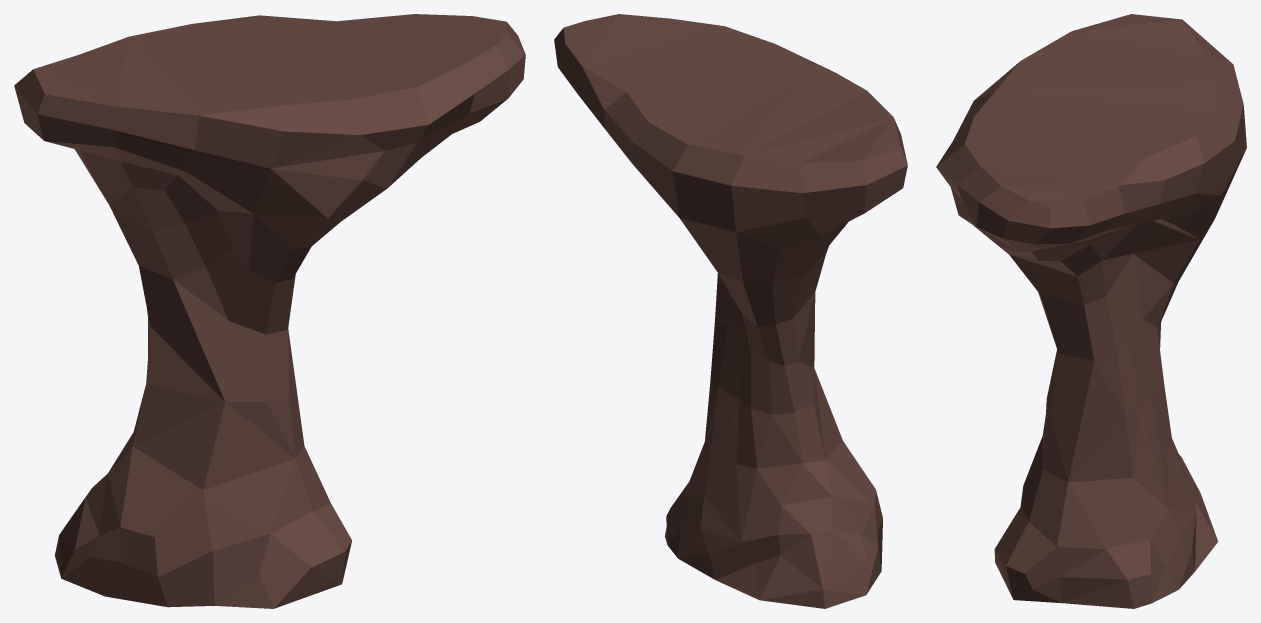
Rendered from Pillar-B10.fbx.
The picture shows the model from 3 angles, left to right: view 1: azimuth 30°, elevation 25°; view 2: azimuth 150°, elevation 25°; view 3: azimuth 270°, elevation 25°; orthographic projection. The views are drawn at different scales.
Parts seen in each view (by area): view 1: Pillar-B10; view 2: Pillar-B10; view 3: Pillar-B10.
Boxes of the visible parts, <box> form: Pillar-B10: <box>14,14,525,608</box>; Pillar-B10: <box>554,14,907,608</box>; Pillar-B10: <box>936,14,1246,608</box>.
Bounding box in the file's own units: 306 × 198 × 339.
